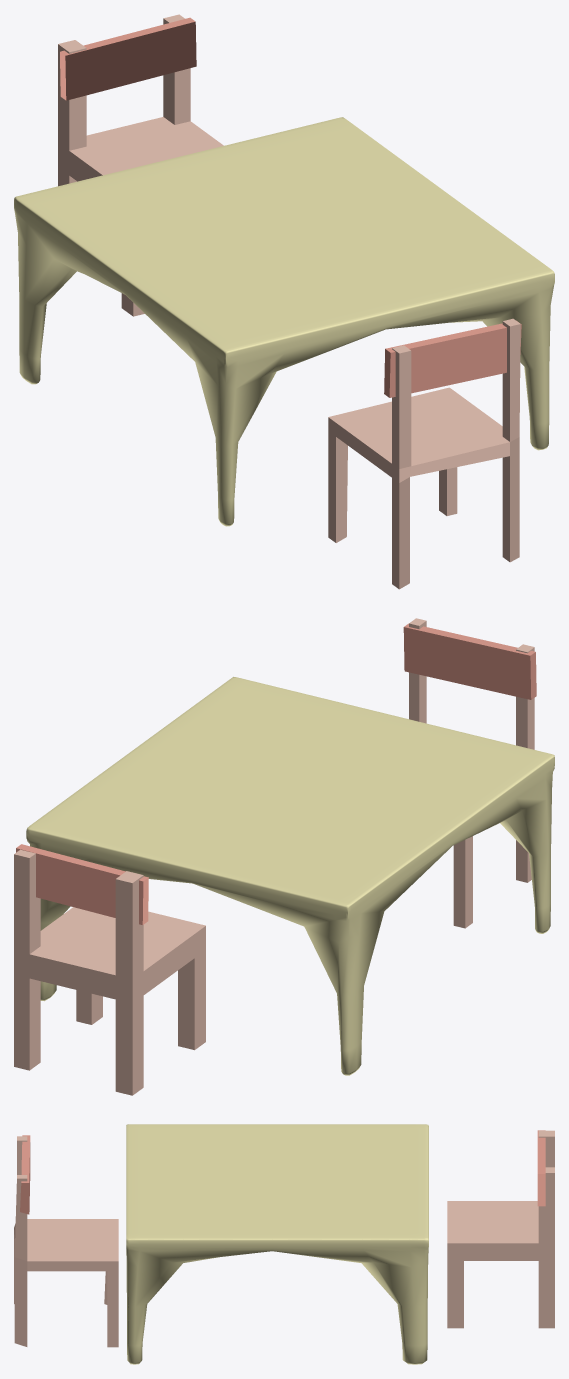
The model's file is dinningtablewithchair.glb.
The picture shows the model from 3 angles, top to bottom: view 1: azimuth 30°, elevation 25°; view 2: azimuth 150°, elevation 25°; view 3: azimuth 270°, elevation 25°; orthographic projection. The views are drawn at different scales.
Visible parts, largest first — view 1: Cube.002, Cube, Cube.003, Cube.004, Cube.001; view 2: Cube.002, Cube.003, Cube.001, Cube.004, Cube; view 3: Cube.002, Cube.003, Cube, Cube.001, Cube.004.
Boxes of the visible parts, box(x1,y1,x2,y2) form: Cube.002: box(14, 117, 554, 526); Cube: box(328, 318, 520, 589); Cube.003: box(58, 14, 223, 316); Cube.004: box(60, 17, 196, 100); Cube.001: box(384, 320, 521, 397); Cube.002: box(26, 677, 554, 1075); Cube.003: box(14, 849, 205, 1095); Cube.001: box(403, 623, 536, 699); Cube.004: box(16, 844, 148, 925); Cube: box(409, 618, 534, 928); Cube.002: box(126, 1124, 428, 1364); Cube.003: box(447, 1130, 554, 1328); Cube: box(14, 1136, 118, 1347); Cube.001: box(20, 1135, 30, 1214); Cube.004: box(537, 1130, 545, 1206).
Bounding box in the file's own units: 9.02 × 6.86 × 17.96.
